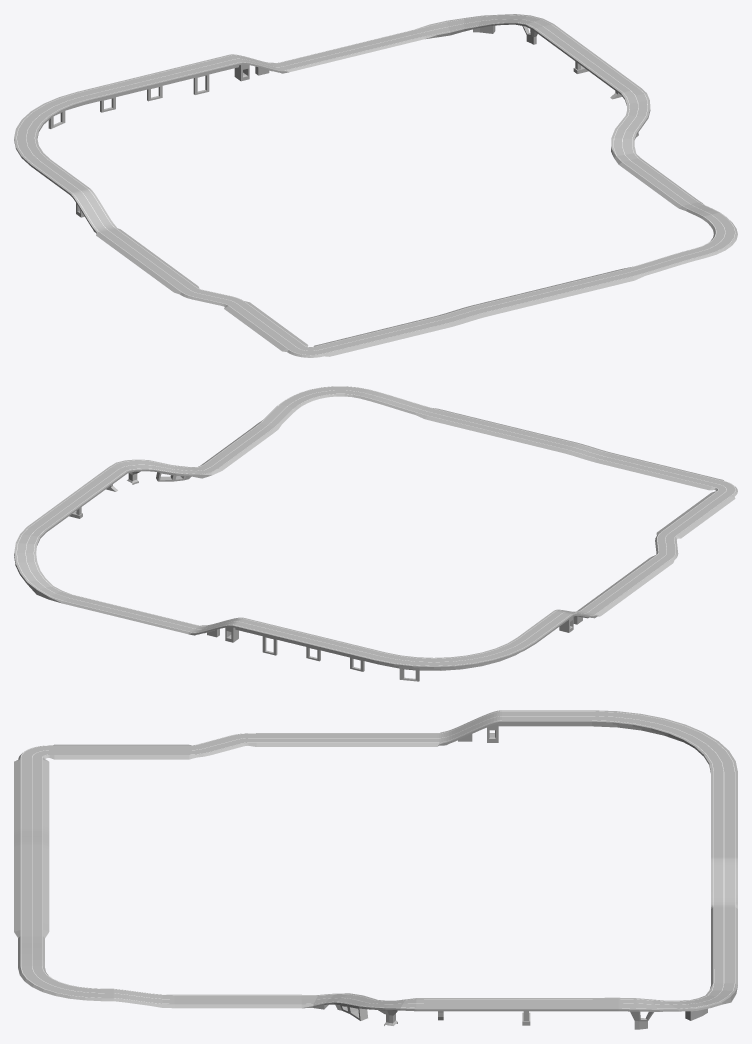
File: MainRoad.fbx
3 renders of one model, top to bottom at view 1: azimuth 30°, elevation 25°; view 2: azimuth 150°, elevation 25°; view 3: azimuth 270°, elevation 25°, orthographic. The views are drawn at different scales.
Visible parts, largest first — view 1: MainRoad; view 2: MainRoad; view 3: MainRoad.
Boxes of the visible parts, x1,y1,x2,y2 form: MainRoad: (14,14,737,357); MainRoad: (14,386,737,681); MainRoad: (14,710,737,1029).
Bounding box in the file's own units: 318 × 15.78 × 322.
